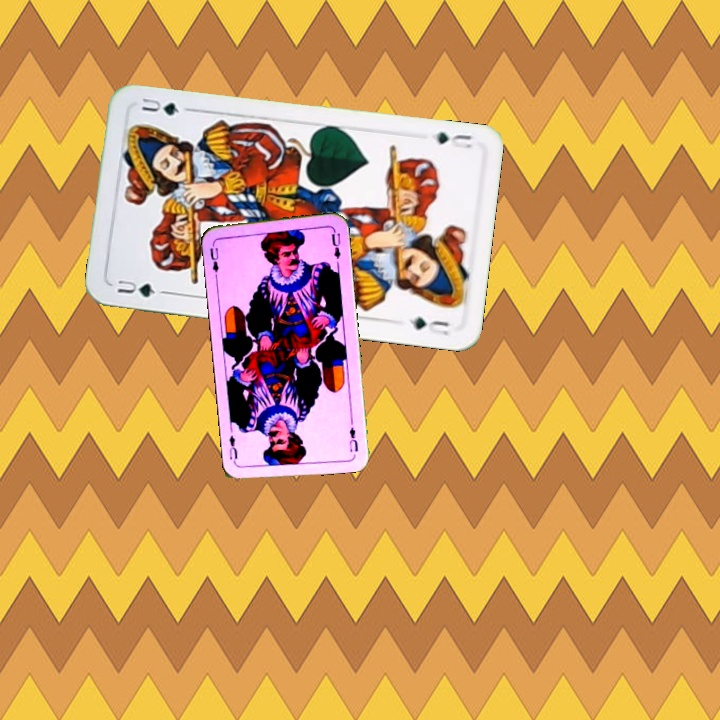EU: (206, 239, 221, 275), (345, 423, 361, 455)
GU: (113, 275, 168, 300), (432, 128, 474, 151)
